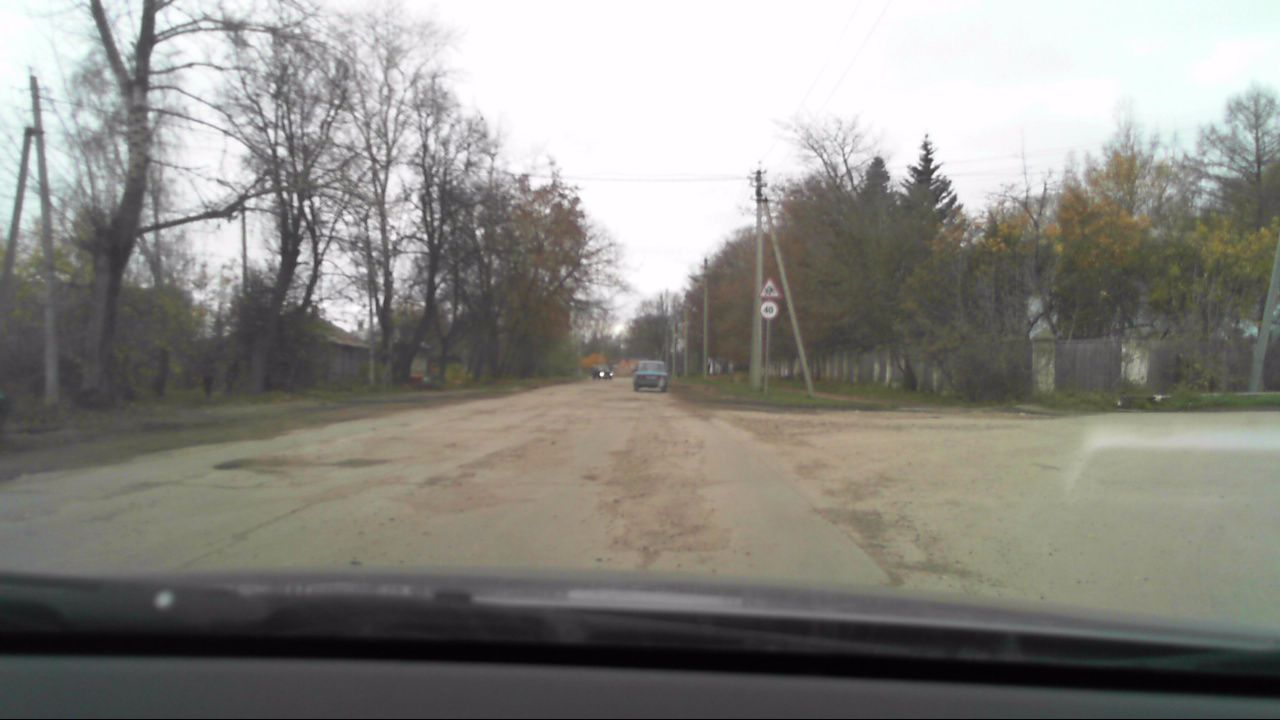speed_warning_40: (758, 301, 779, 319)
